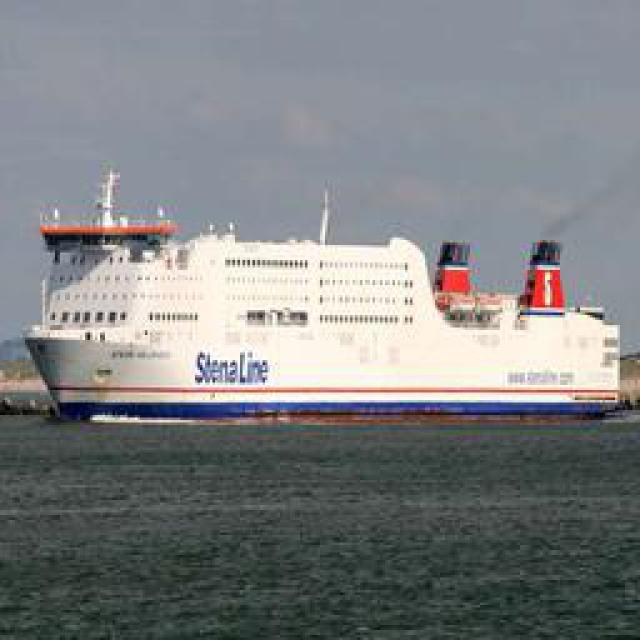Ship: (28, 179, 616, 424)
